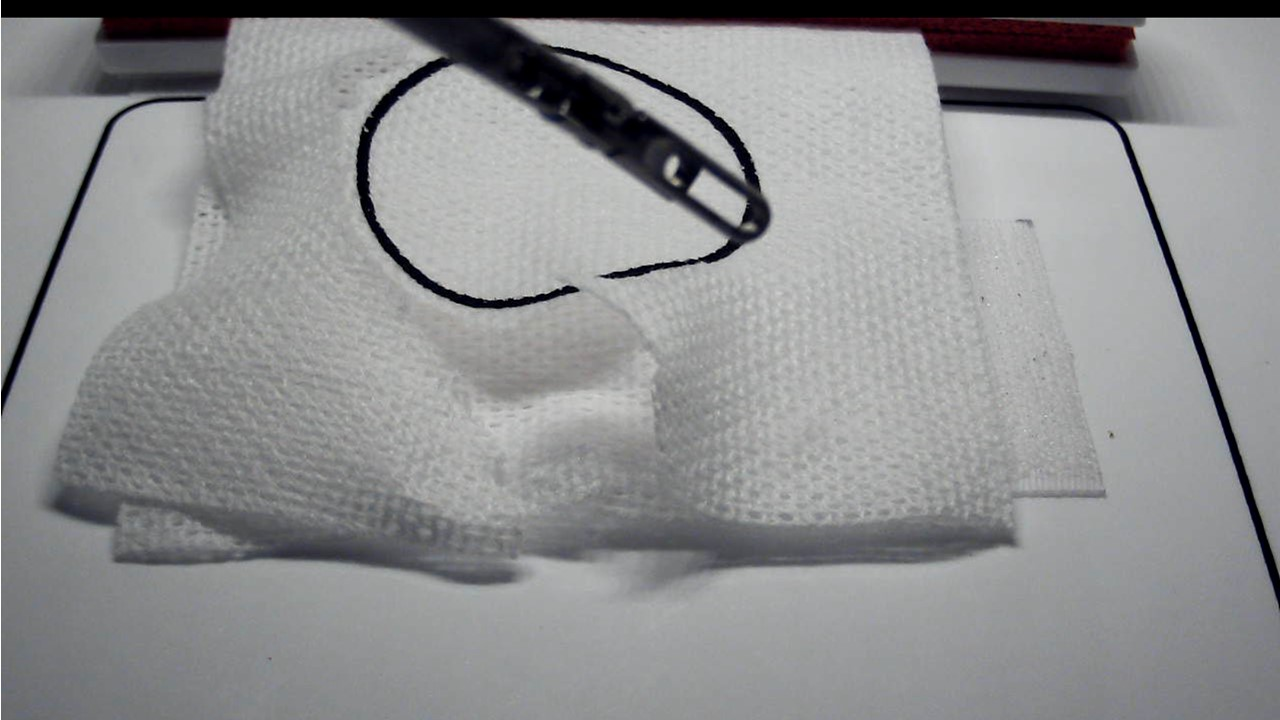Circle: (356, 43, 762, 309)
Grasper: (628, 104, 774, 243)
